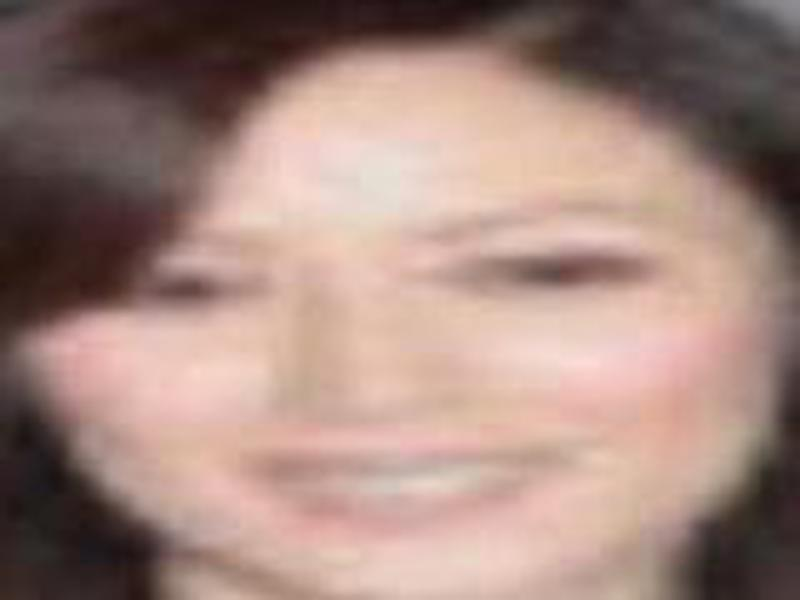without_mask: (12, 99, 770, 585)
